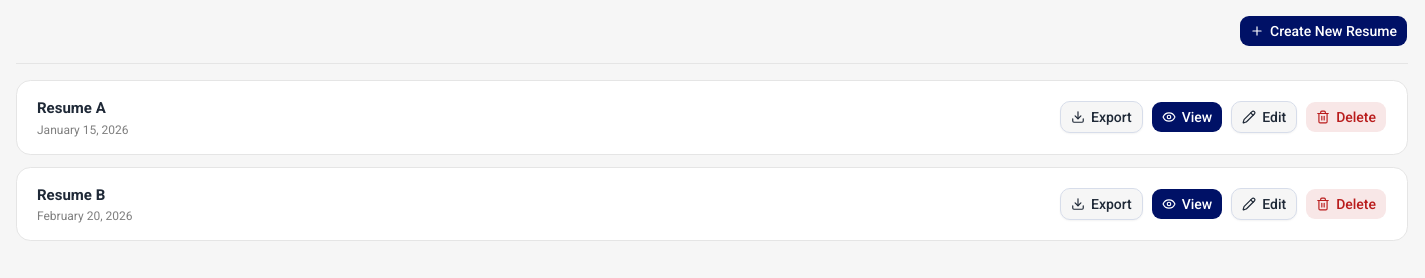
Test: ResumeList › shows error when delete fails
The width and height of the screenshot is (1425, 278).
expect the text "Resume A" is shown: met, box [37,99,106,117]
Step 1. Click the button "Delete" in the row of "January 15, 2026" → (1346, 117), box [1305,101,1387,133]
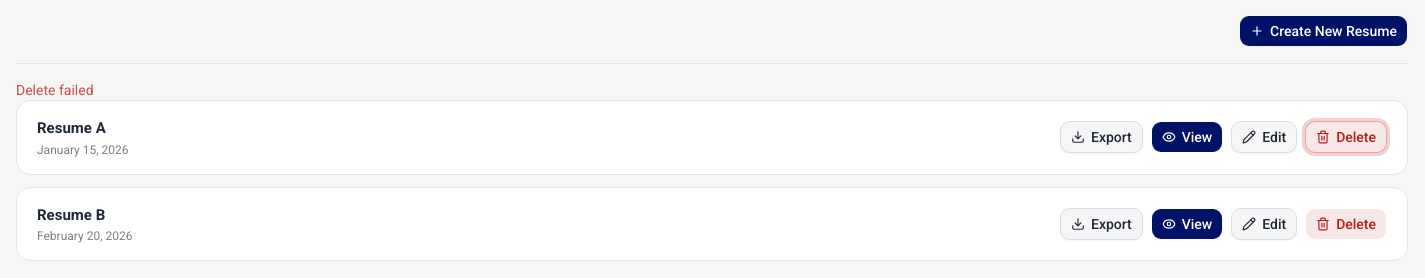
expect the text "Delete failed" is shown: met, box [16,82,94,98]
